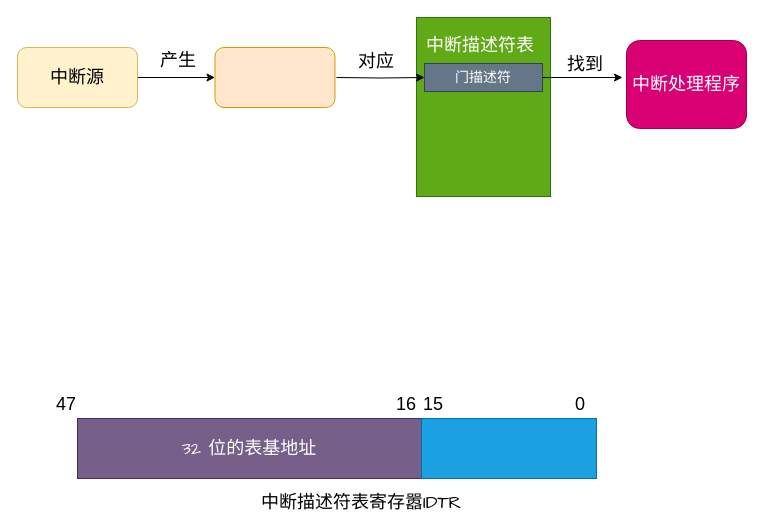
Some shapes in this 764 by 532 pixel diagram are drawn without their labels. The shapes that lost their labels are listed below. From the top down, each one's centre as x and y in pixels, then its label:
At (x=274, y=77): "中断向量".
At (x=508, y=448): "16 位的表界限".
